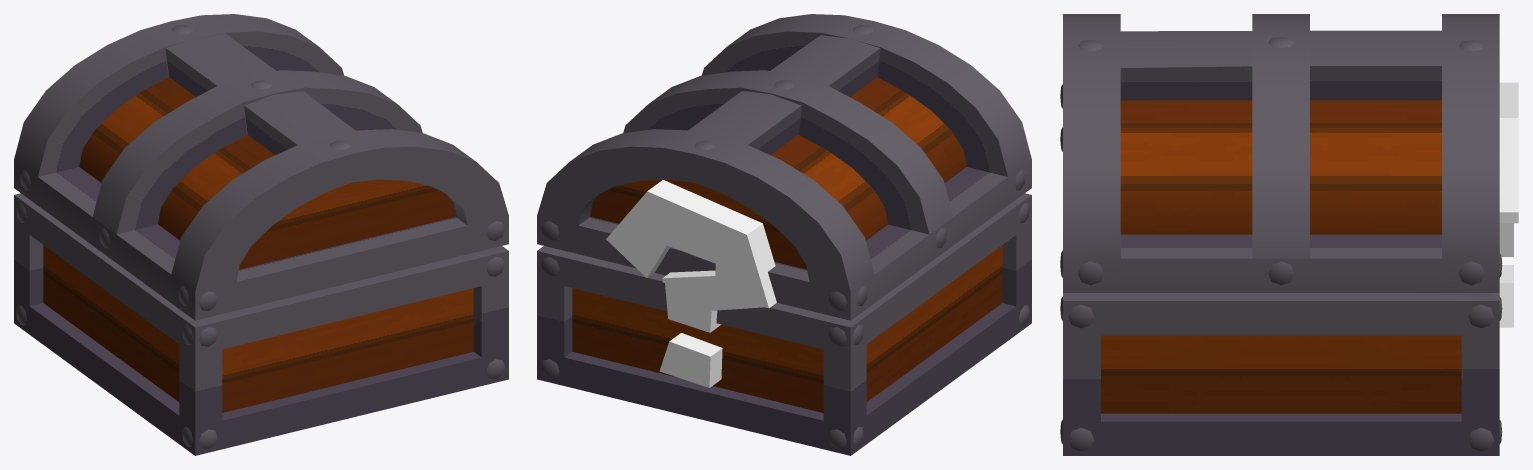
The model's file is Chest.glb.
The picture shows the model from 3 angles, left to right: view 1: azimuth 30°, elevation 25°; view 2: azimuth 150°, elevation 25°; view 3: azimuth 270°, elevation 25°; orthographic projection. The views are drawn at different scales.
Parts seen in each view (by area): view 1: Block_ChestT, Block_ChestB, Cube; view 2: Block_ChestT, Block_ChestB; view 3: Block_ChestT, Cube, Block_ChestB.
Boxes of the visible parts, x1=… form: Block_ChestT: x1=14, y1=14, x2=508, y2=320; Block_ChestB: x1=14, y1=193, x2=508, y2=455; Cube: x1=389, y1=251, x2=508, y2=400; Block_ChestT: x1=537, y1=14, x2=1031, y2=320; Block_ChestB: x1=537, y1=193, x2=1031, y2=455; Block_ChestT: x1=1060, y1=14, x2=1518, y2=292; Cube: x1=1064, y1=301, x2=1499, y2=455; Block_ChestB: x1=1060, y1=127, x2=1513, y2=455.
Size of the model in its own units: 2.33 by 1.88 by 2.41.
Materials: 1 (1 with a texture image).
